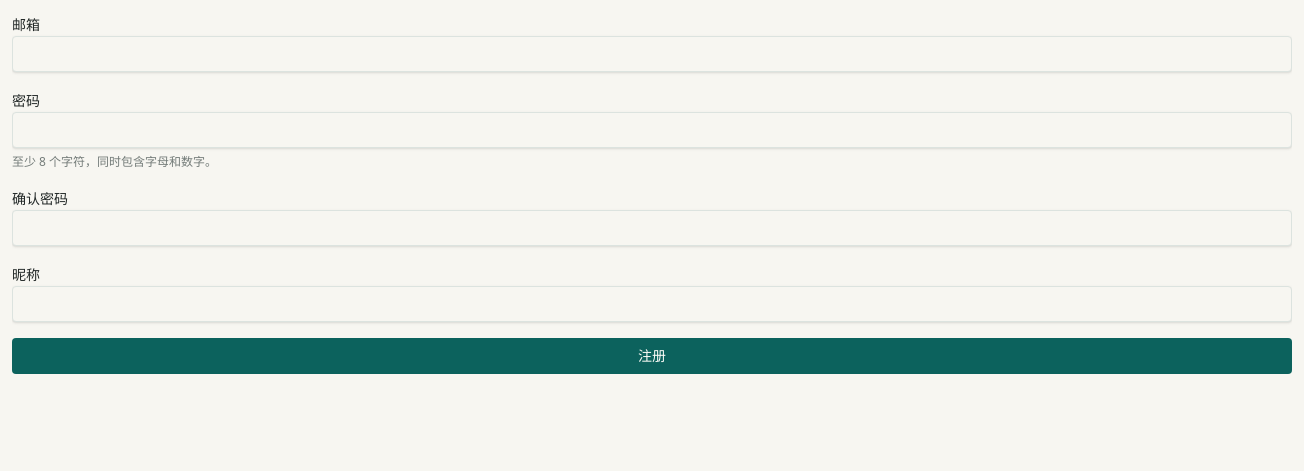
表单安全错误 › 注册服务端错误紧邻表单呈现安全消息与可复制 trace_id
Type "alice@example.com" into the field labelled "邮箱" at {"x": 652, "y": 54}, box [12,36,1292,72]
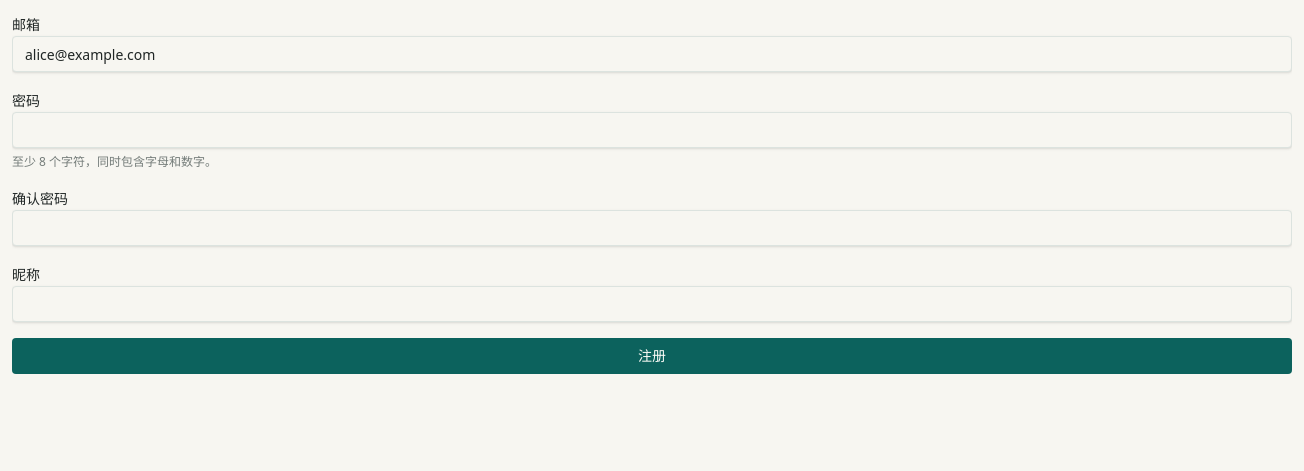
Type "pass1234" into the password field labelled "密码" at {"x": 652, "y": 130}, box [12,112,1292,148]
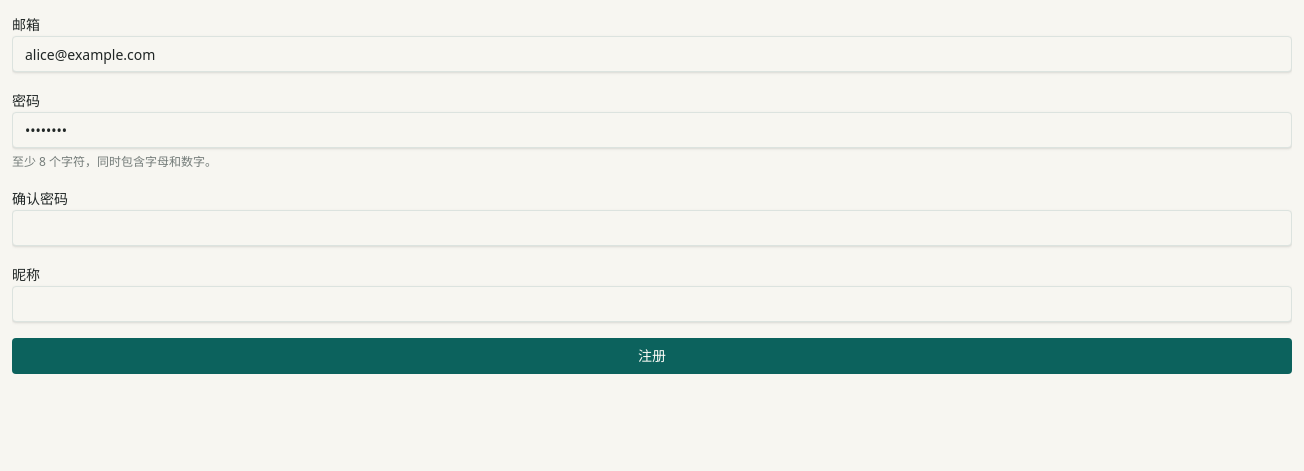
Type "pass1234" into the password field labelled "确认密码" at {"x": 652, "y": 228}, box [12,210,1292,246]
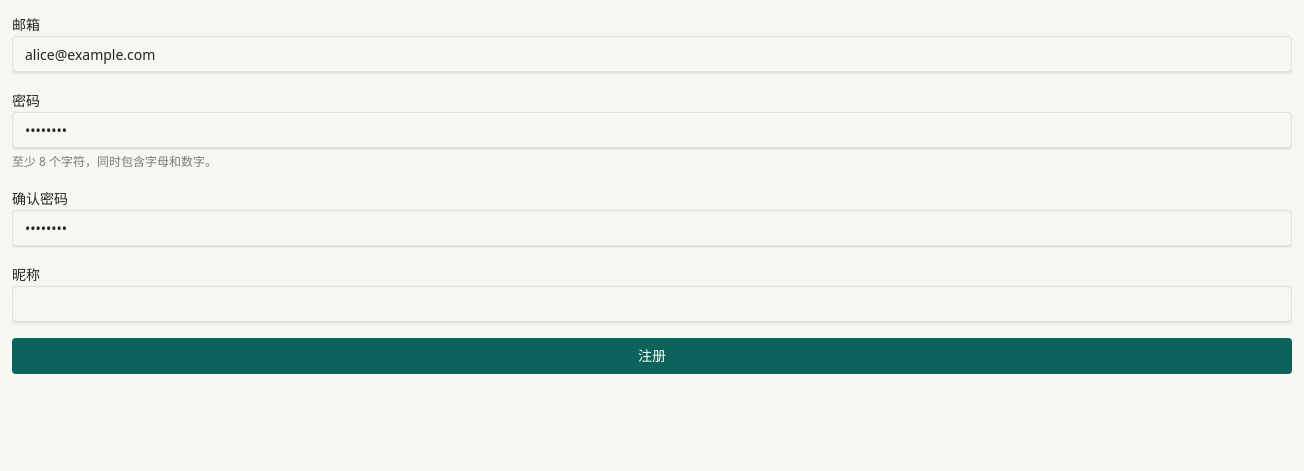
Click the button "注册" at {"x": 652, "y": 356}, box [12,338,1292,374]
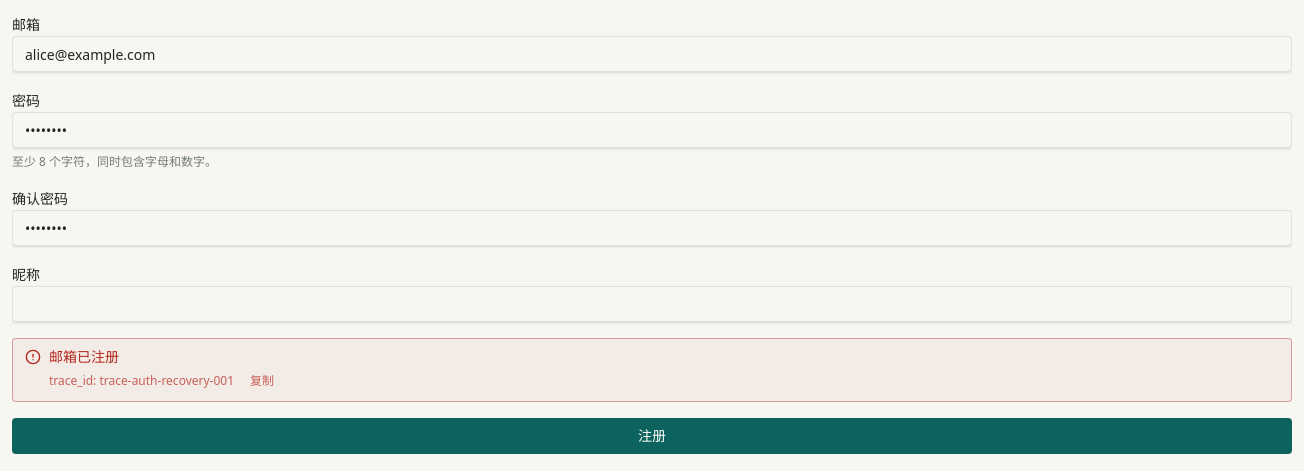
Result: the message shows "邮箱已注册" at [49,347,119,366]
Result: the button with aria-label "复制追踪 ID" is shown at [242,369,282,393]
